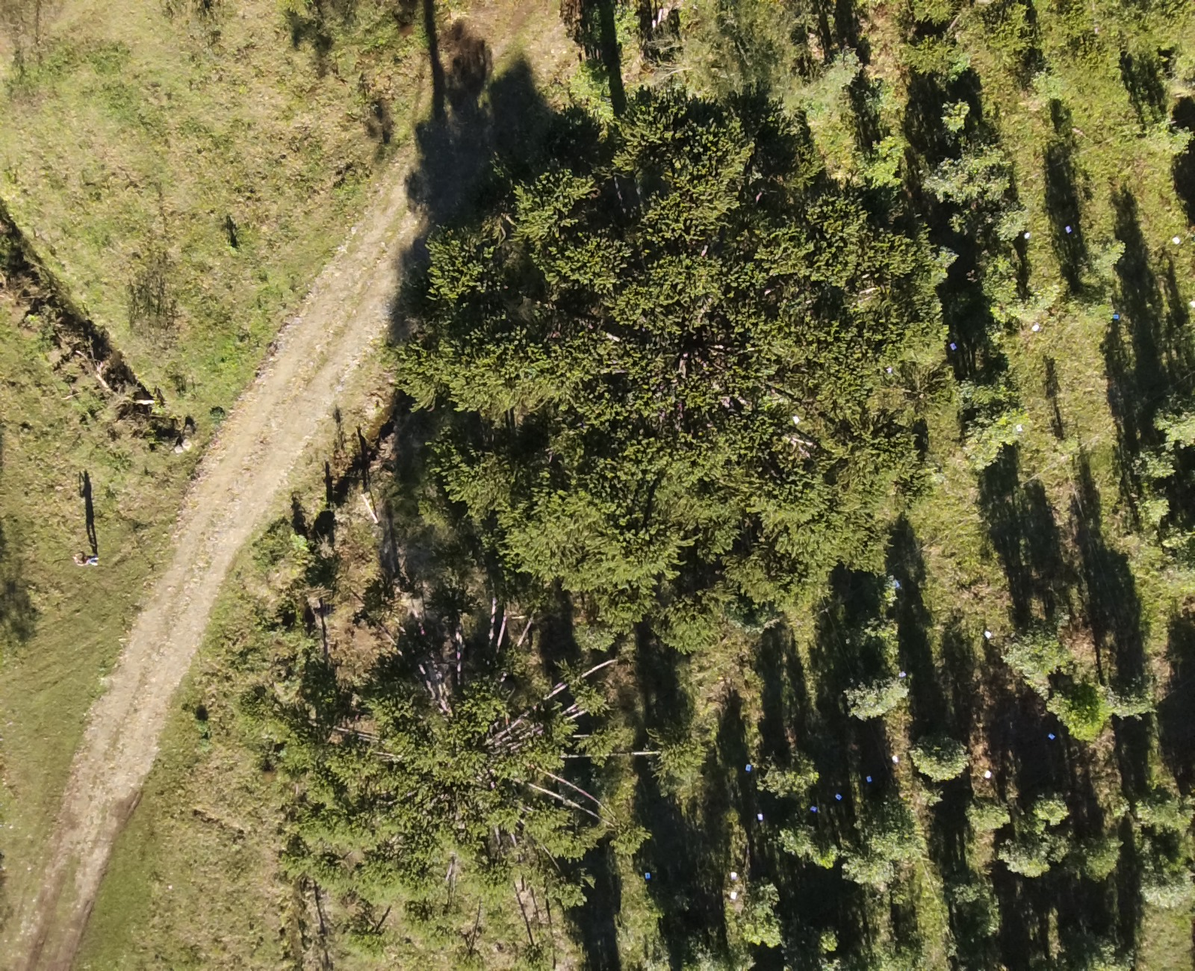erva: (910, 725, 972, 784), (1005, 626, 1067, 680), (1132, 789, 1190, 841), (1052, 694, 1111, 745), (861, 828, 923, 876), (913, 155, 963, 212), (763, 752, 818, 803), (976, 251, 1025, 308), (1145, 396, 1194, 453), (1137, 868, 1194, 916), (836, 851, 895, 896), (1000, 837, 1052, 884), (959, 792, 1012, 838), (1126, 447, 1176, 491), (1028, 69, 1070, 121), (893, 767, 940, 813), (875, 660, 919, 708), (958, 426, 999, 477), (1081, 837, 1123, 886), (1027, 786, 1078, 826), (1137, 114, 1186, 152), (1080, 241, 1120, 287), (836, 680, 873, 728), (1123, 491, 1171, 528), (776, 814, 813, 860), (965, 369, 1006, 410), (1109, 683, 1157, 718), (997, 412, 1046, 445), (680, 929, 717, 970), (744, 917, 790, 949), (932, 98, 972, 133), (955, 871, 992, 908), (1146, 529, 1185, 563), (804, 835, 835, 877), (975, 906, 1007, 946), (1042, 831, 1073, 872), (1008, 308, 1041, 341), (859, 579, 898, 605), (991, 210, 1029, 235), (742, 884, 775, 911), (1039, 283, 1071, 304)
